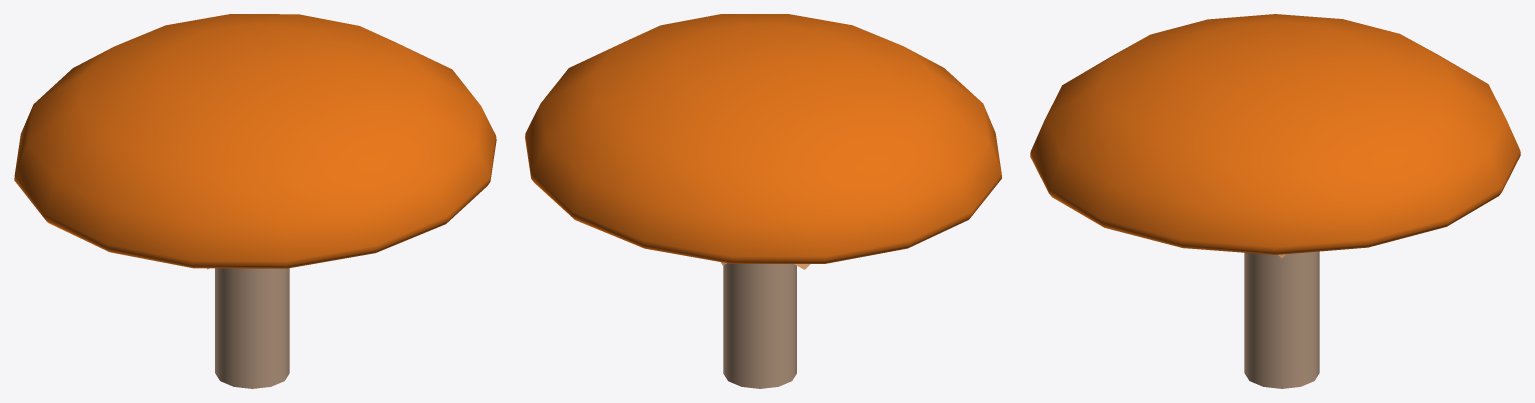
File: Mashroom_02_4.fbx
3 renders of one model, left to right at view 1: azimuth 30°, elevation 25°; view 2: azimuth 150°, elevation 25°; view 3: azimuth 270°, elevation 25°, orthographic.
Parts seen in each view (by area): view 1: Mashroom_02_4; view 2: Mashroom_02_4; view 3: Mashroom_02_4.
Part boxes in pixels (left/top/right/bottom): Mashroom_02_4: left=14, top=14, right=496, bottom=388; Mashroom_02_4: left=525, top=14, right=1001, bottom=388; Mashroom_02_4: left=1030, top=14, right=1520, bottom=388.
Size of the model in its own units: 141 by 102 by 141.
